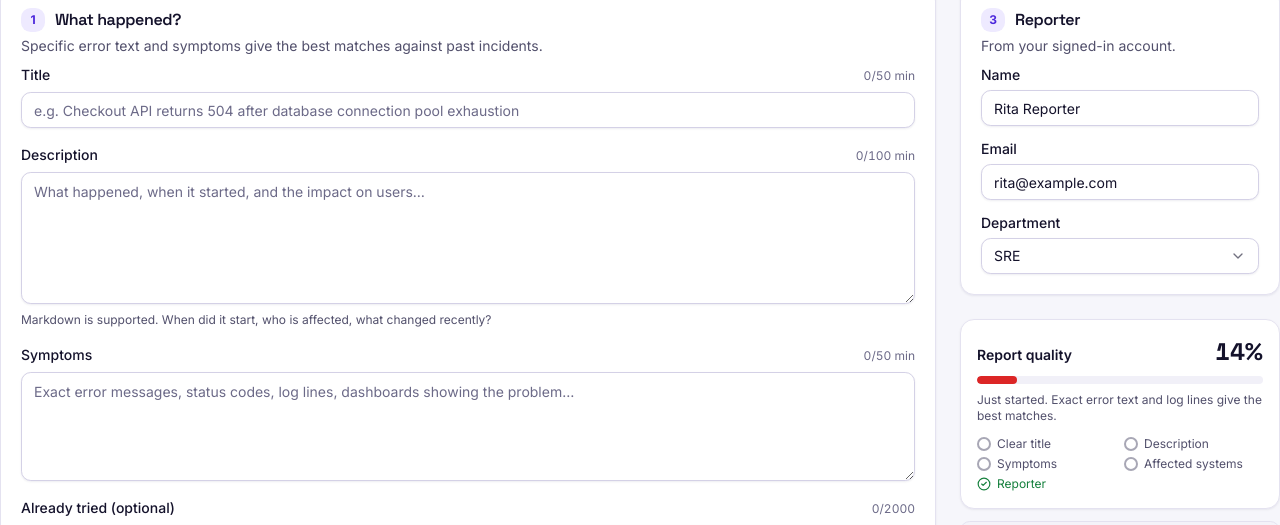
Scenario: IncidentForm › submits without identity headers (the session cookie carries identity) and shows the done step
Step 1. Replace the text in the field labelled "Title" with "Checkout API returns 504 when the database connection pool is exhausted" → (468, 110), box left=21, top=92, right=915, bottom=128
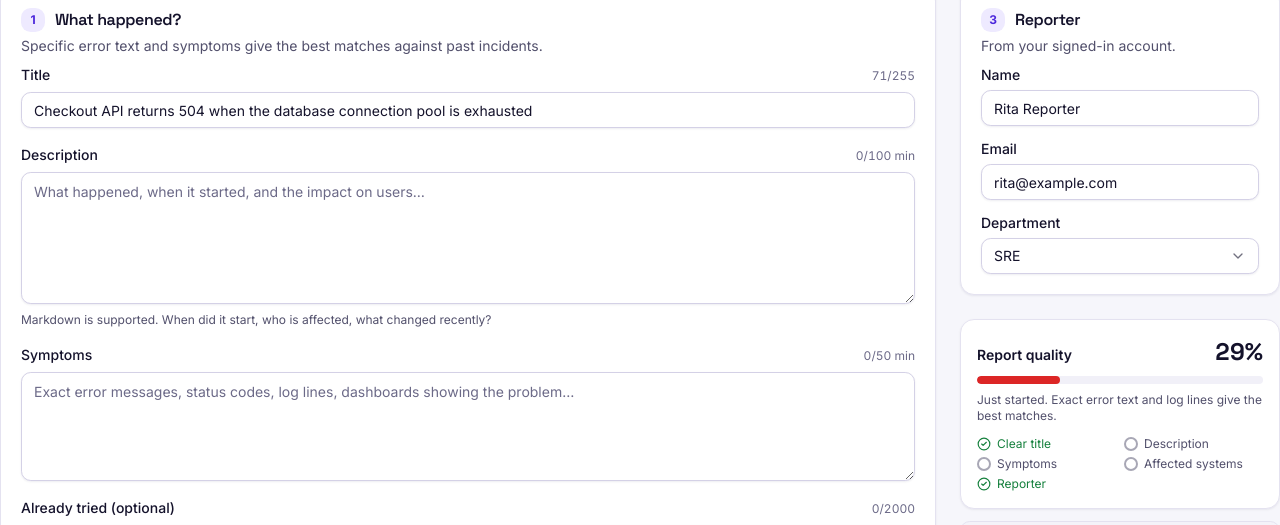
Step 2. Type "The checkout service started timing out for most requests. The Postgres connection pool is pinned at its maximum while query latency stays low." into the text box labelled "Description" → (468, 238), box left=21, top=172, right=915, bottom=304
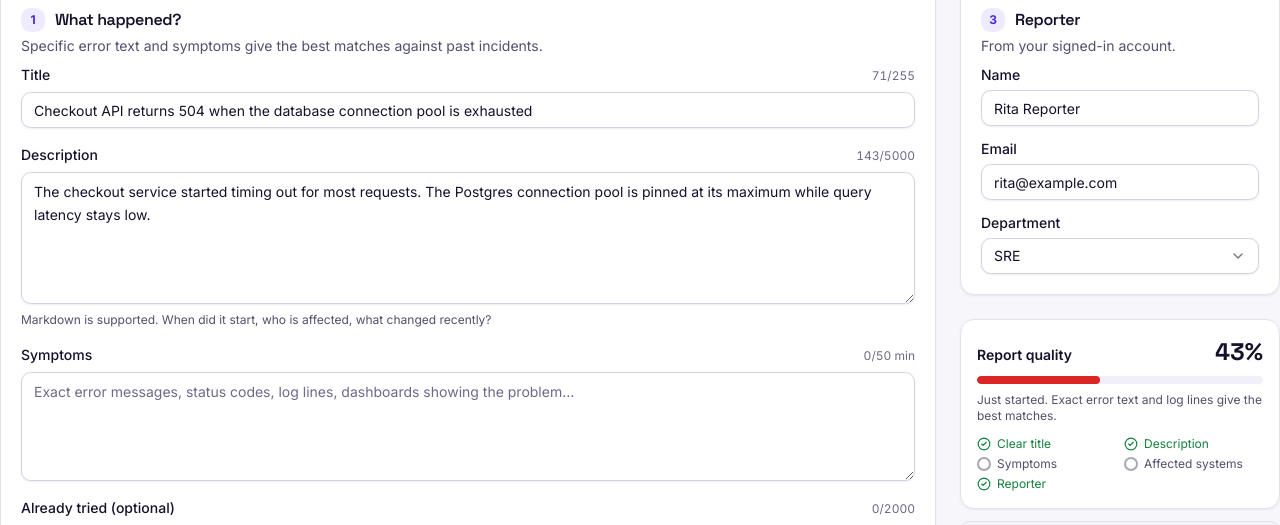
Step 3. Replace the text in the text box labelled "Symptoms" with "HTTP 504 from /api/checkout after 30s. Logs: TimeoutError connection pool exhausted (max 20)." → (468, 426), box left=21, top=372, right=915, bottom=481
(page scrolled)
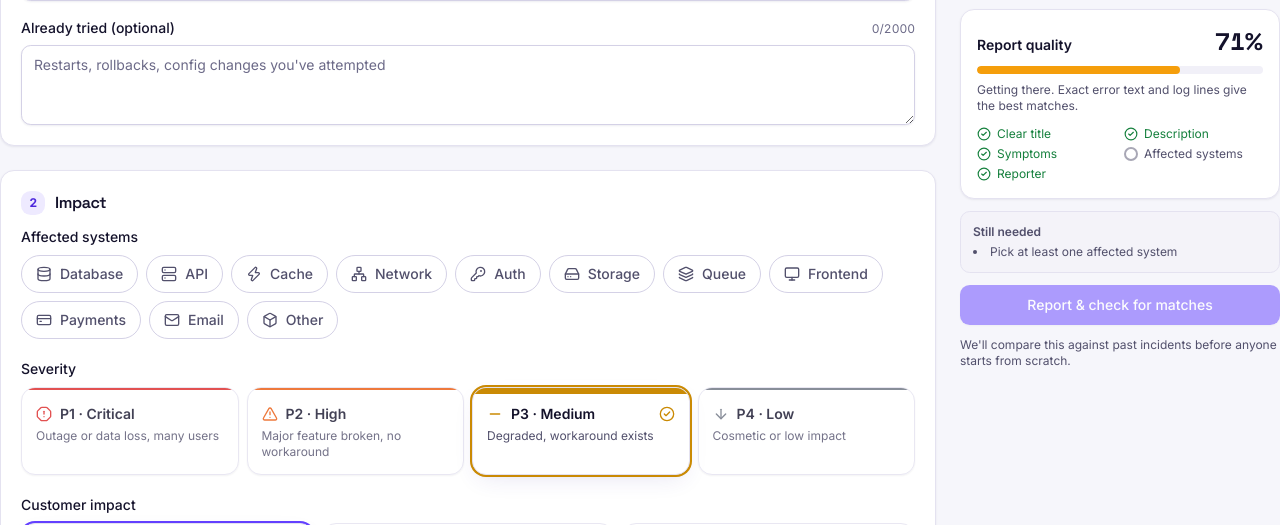
Step 4. Click the button "Database" → (80, 274), box left=21, top=255, right=138, bottom=293
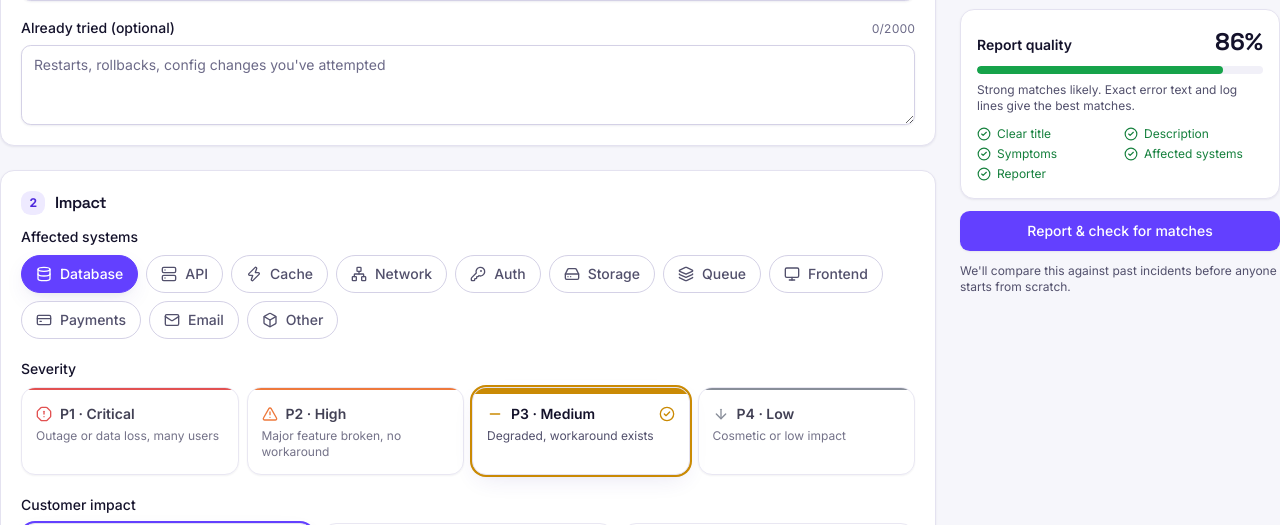
Step 5. Click the button "Report & check for matches" → (1120, 231), box left=960, top=211, right=1279, bottom=251
(page scrolled)
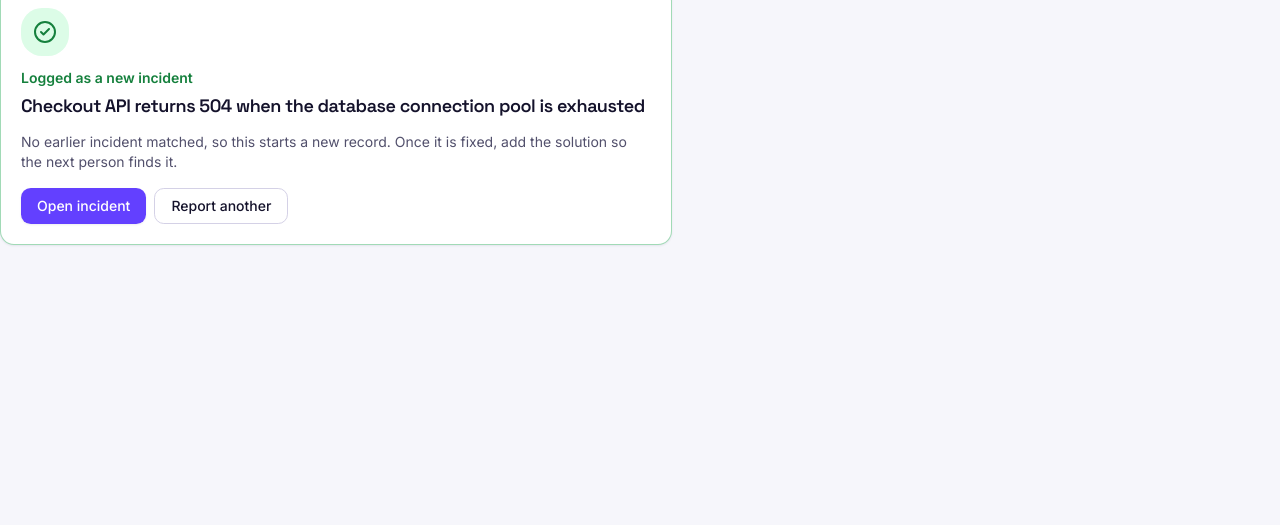
Check: the text "Logged as a new incident" is shown, box left=21, top=69, right=193, bottom=86
